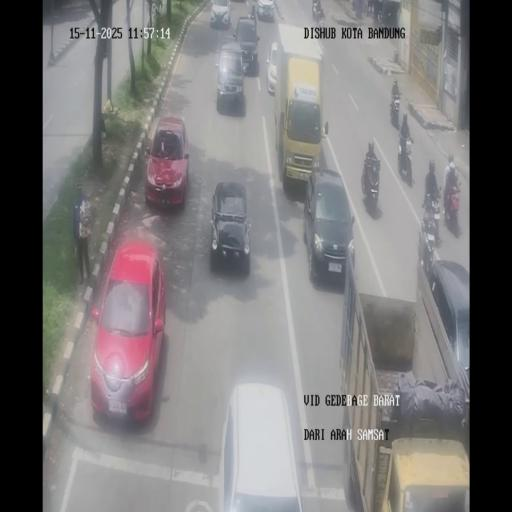car: (90, 240, 166, 423), (219, 382, 303, 512), (423, 261, 470, 443), (302, 166, 353, 286), (145, 114, 189, 208), (234, 15, 260, 74), (266, 42, 278, 94), (209, 0, 231, 28), (256, 0, 275, 21)
motorcycle: (418, 198, 440, 272), (442, 173, 461, 233), (362, 157, 380, 210), (398, 137, 412, 182), (390, 91, 401, 126), (316, 3, 326, 24), (366, 1, 374, 17), (376, 8, 384, 24), (250, 1, 256, 21)
truck: (273, 37, 323, 193)
